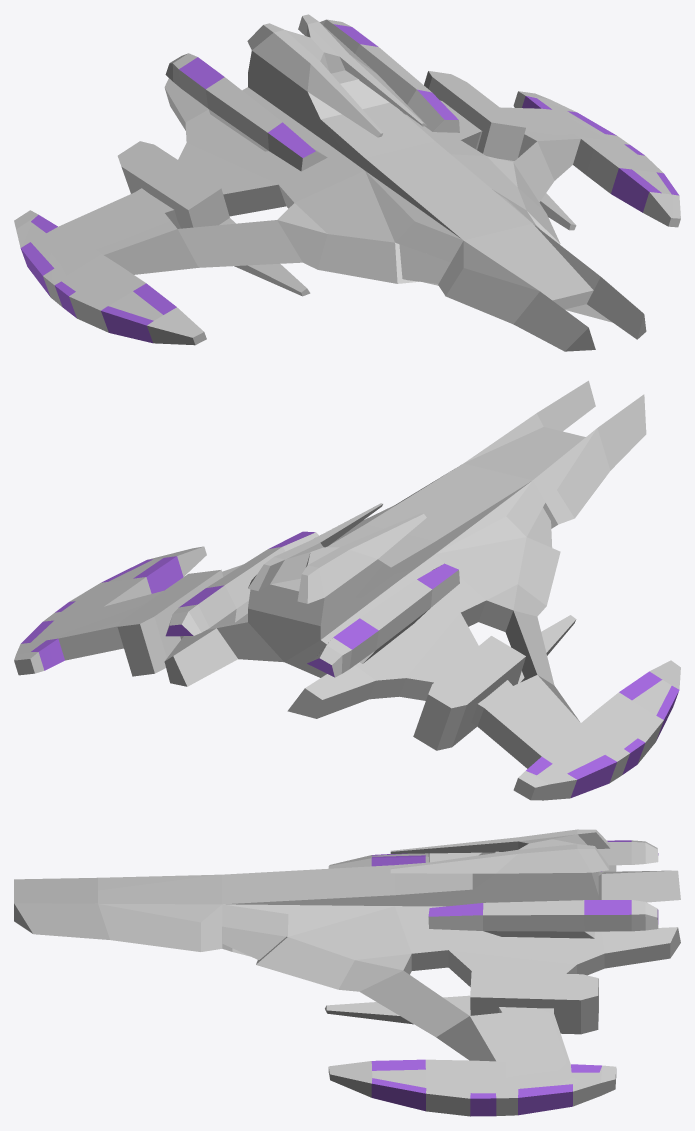
The model's file is DOM_CRUISER_III.fbx.
3 views of the same model, one above another, from view 1: azimuth 30°, elevation 25°; view 2: azimuth 150°, elevation 25°; view 3: azimuth 270°, elevation 25° (orthographic). The views are drawn at different scales.
Parts seen in each view (by area): view 1: JemHadarB; view 2: JemHadarB; view 3: JemHadarB.
Part boxes in pixels (box(x1,y1,x2,y2)): JemHadarB: box(14, 14, 680, 351); JemHadarB: box(14, 380, 680, 800); JemHadarB: box(14, 829, 680, 1116).
Size of the model in its own units: 33607 by 38279 by 9943.
